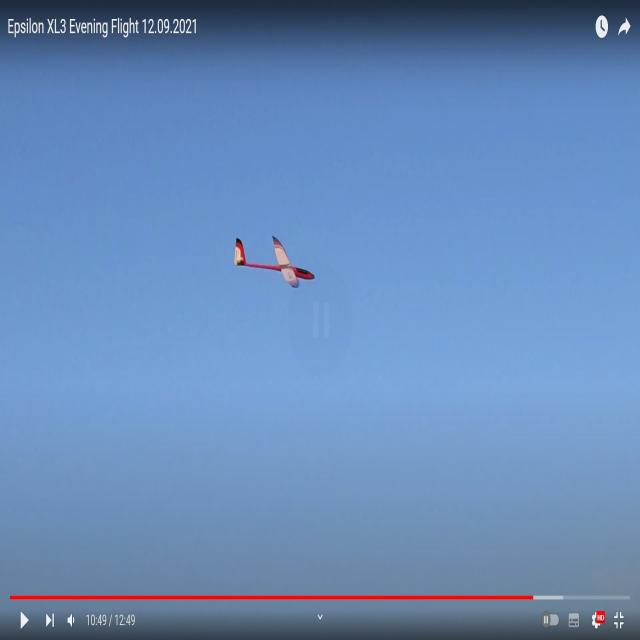iha: (266, 232, 282, 290)
